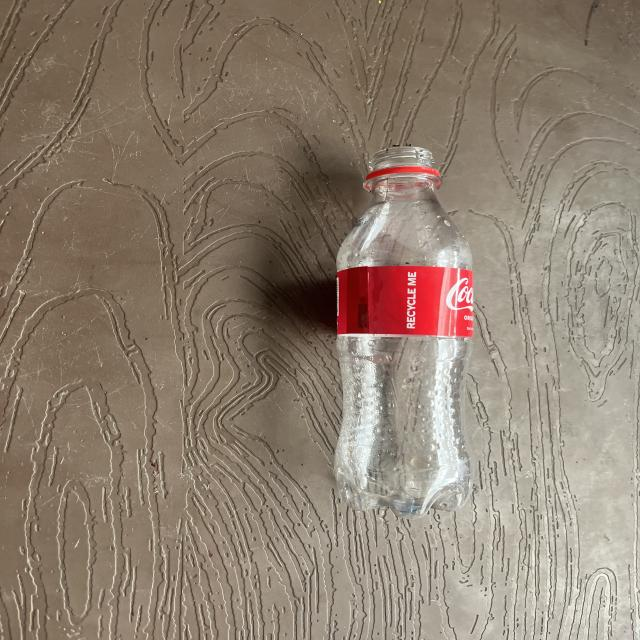REJECT: (332, 153, 571, 520)
